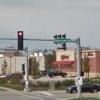Traffic light: (11, 24, 33, 60)
